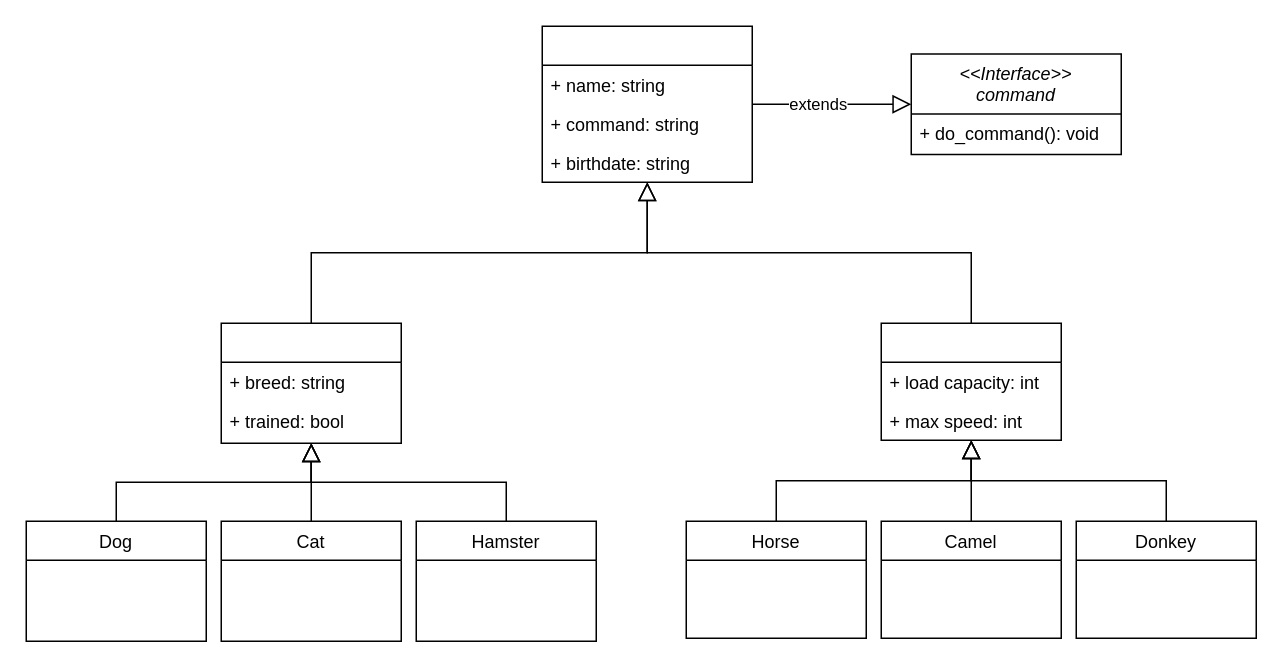
Some shapes in this 1283 by 668 pixel diagram are drawn without their labels. The box of each missing label's shape, as (x1, y1, x2, y2) in pixels:
Animal: (541, 25, 752, 182)
Pack animal: (880, 322, 1061, 440)
Pet: (220, 322, 401, 443)
